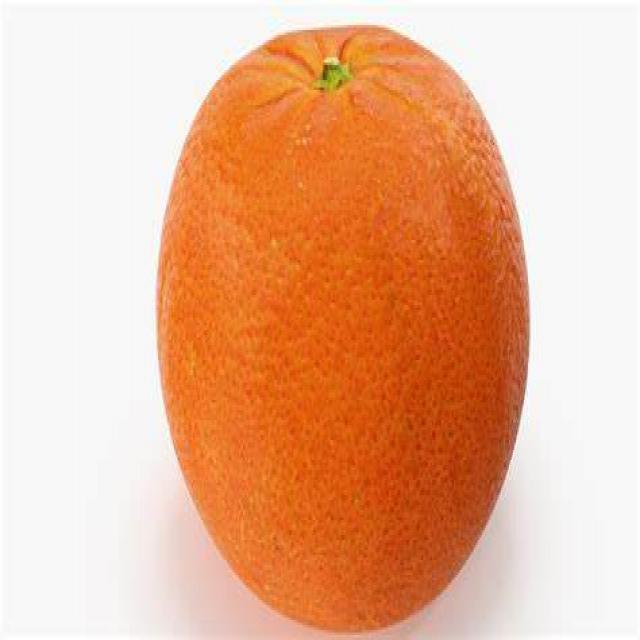Orange: (156, 29, 536, 634)
